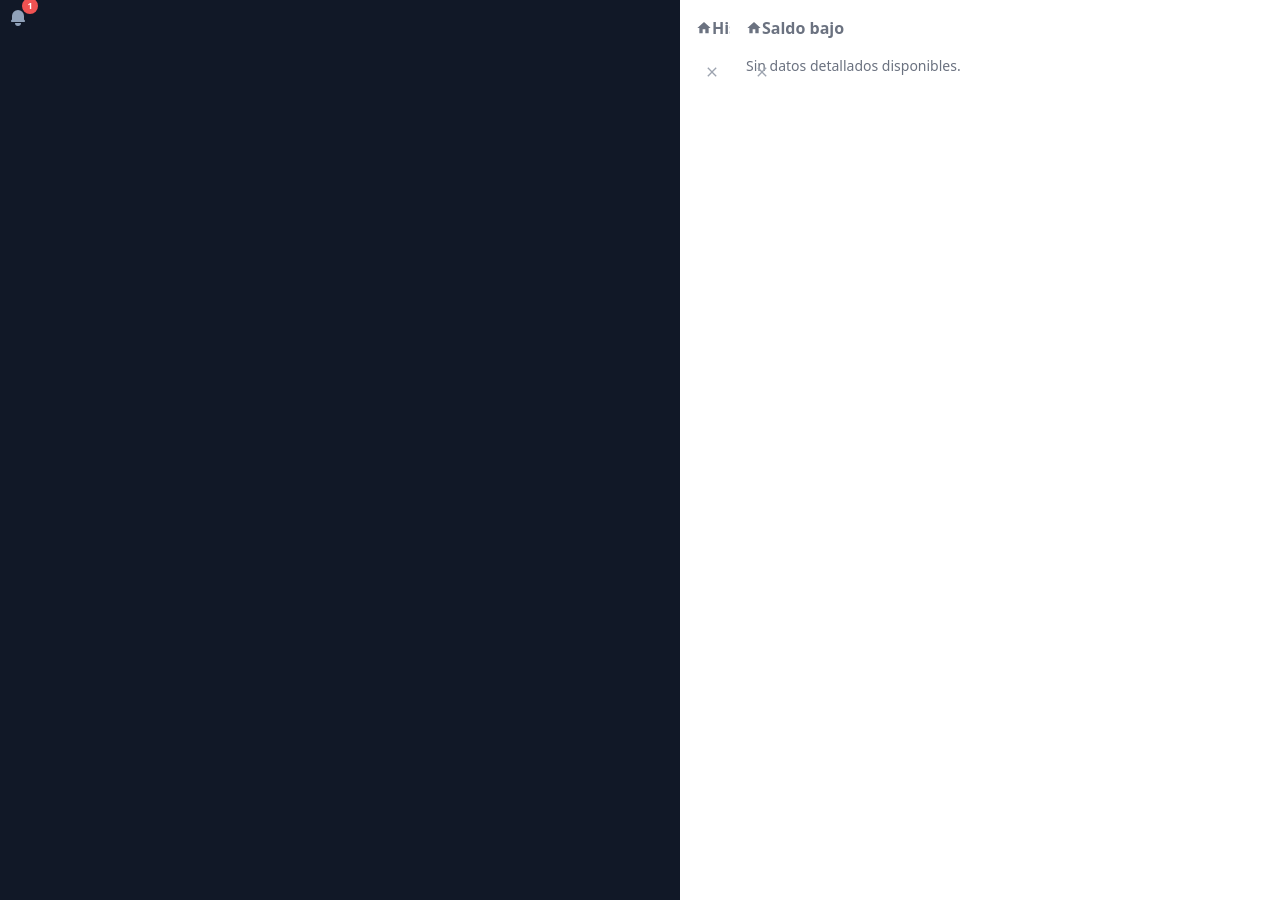
Test: NotificationBell › shows notification messages in dropdown
This screenshot has width=1280, height=900.
Click the button "1" at (18, 18), box [0,0,36,36]
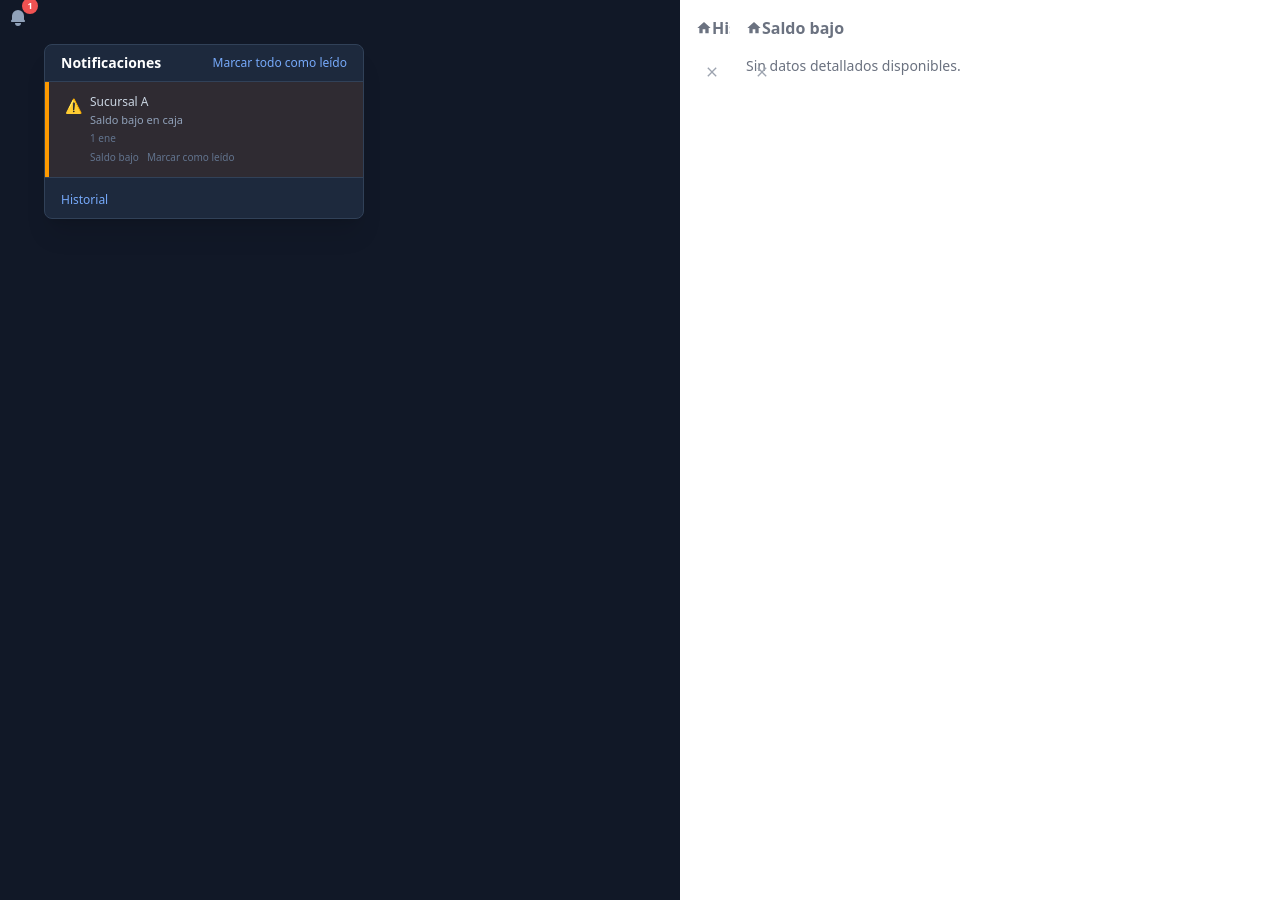
Check: the text "Saldo bajo en caja" is shown, box [90,112,183,127]
Check: the text "Sucursal A" is shown, box [90,93,148,110]
